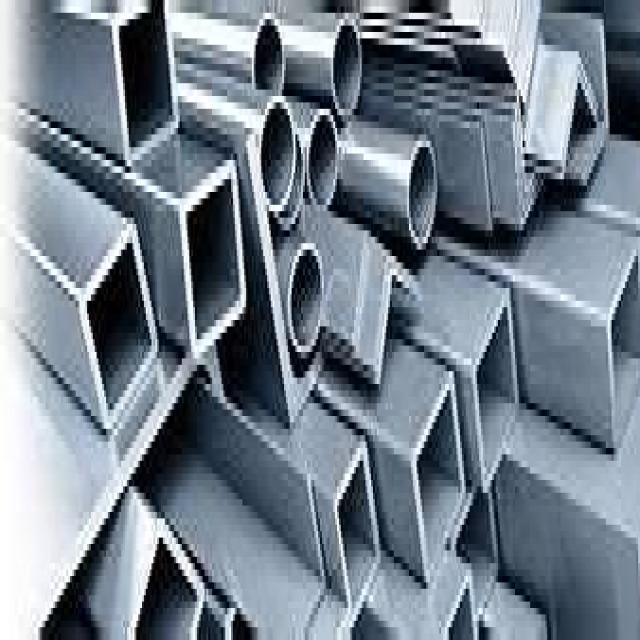pipe: (83, 224, 159, 427), (184, 173, 244, 352), (414, 374, 466, 577), (117, 0, 178, 164), (475, 303, 519, 489), (338, 449, 379, 612), (454, 487, 498, 628), (610, 251, 640, 443), (260, 98, 294, 212), (288, 249, 322, 350), (331, 20, 362, 113), (307, 116, 339, 206), (408, 143, 435, 240), (252, 22, 284, 97)
